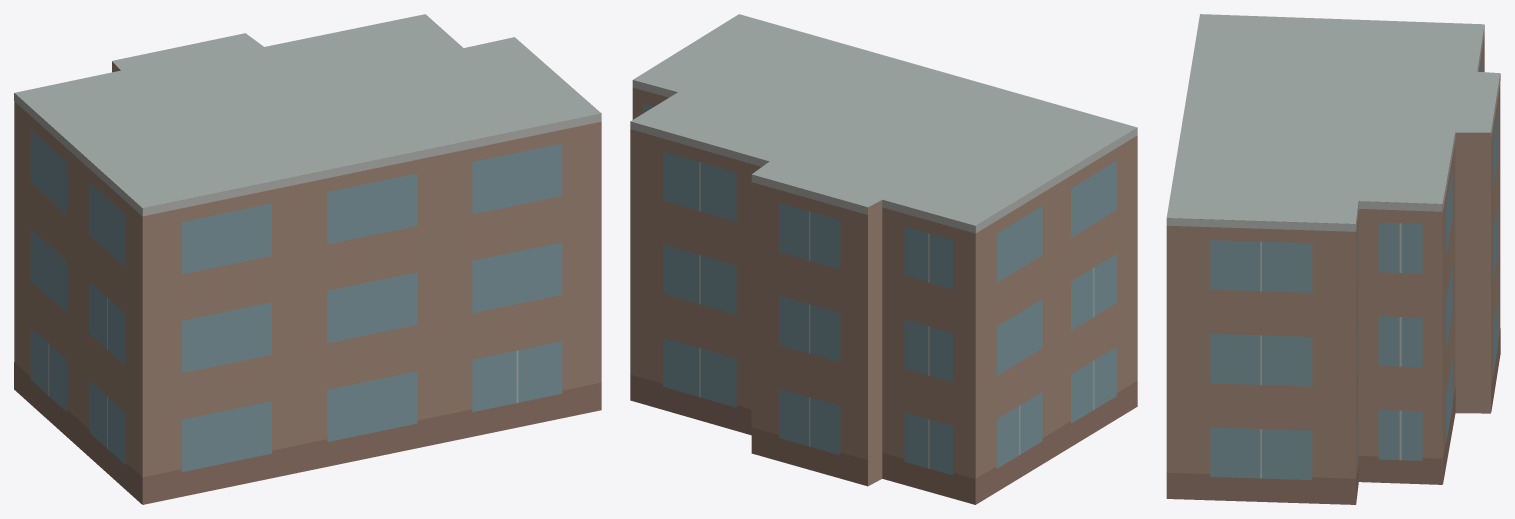
File: survey-upis-32471264.glb
3 renders of one model, left to right at view 1: azimuth 30°, elevation 25°; view 2: azimuth 150°, elevation 25°; view 3: azimuth 270°, elevation 25°, orthographic. The views are drawn at different scales.
Parts seen in each view (by area): view 1: survey-upis-32471264.tmp; view 2: survey-upis-32471264.tmp; view 3: survey-upis-32471264.tmp.
Part boxes in pixels (x1=…): survey-upis-32471264.tmp: x1=14, y1=14, x2=601, y2=504; survey-upis-32471264.tmp: x1=630, y1=14, x2=1137, y2=504; survey-upis-32471264.tmp: x1=1166, y1=14, x2=1500, y2=504.
Bounding box in the file's own units: 14.12 × 8.8 × 9.49.
